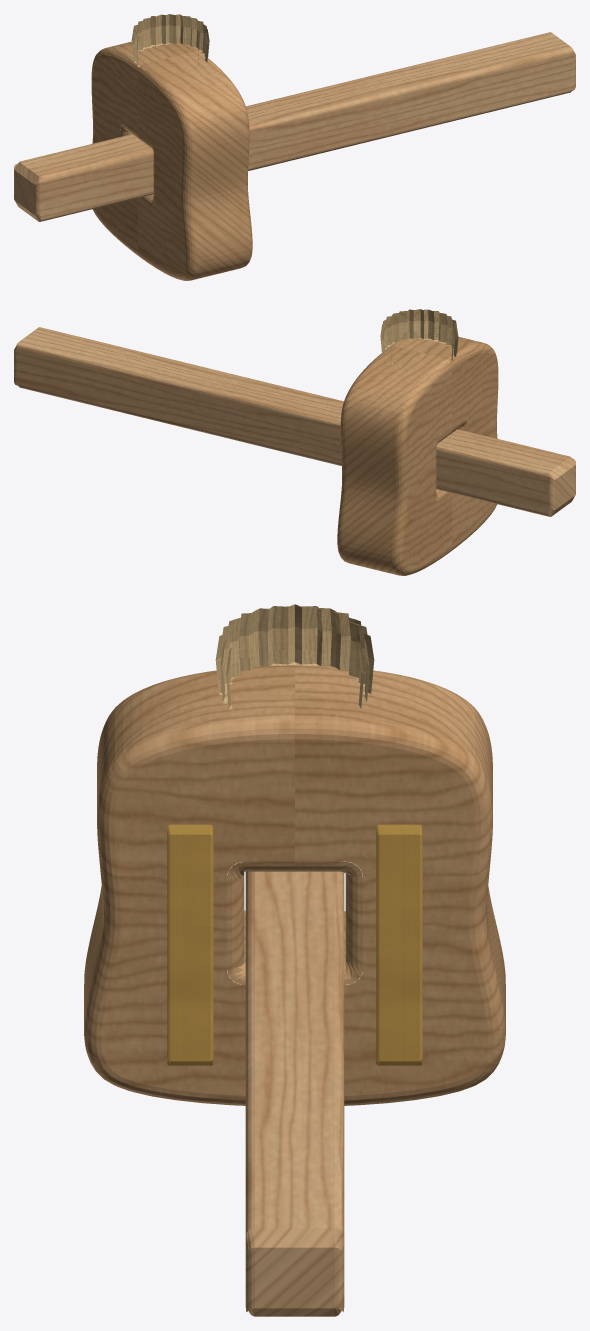
The model's file is gramil.glb.
3 views of the same model, one above another, from view 1: azimuth 30°, elevation 25°; view 2: azimuth 150°, elevation 25°; view 3: azimuth 270°, elevation 25° (orthographic). The views are drawn at different scales.
Visible parts, largest first — view 1: regla, cabezal, tornillo_apriete; view 2: regla, cabezal, tornillo_apriete; view 3: cabezal, regla, pletina_-18, pletina_18, tornillo_apriete.
Part boxes in pixels (x1,y1,x2,y2): regla: (14, 32, 575, 221); cabezal: (91, 42, 252, 280); tornillo_apriete: (131, 14, 209, 74); regla: (14, 327, 575, 516); cabezal: (337, 337, 498, 575); tornillo_apriete: (380, 309, 458, 369); cabezal: (84, 665, 505, 1105); regla: (245, 861, 344, 1316); pletina_-18: (376, 824, 422, 1065); pletina_18: (167, 824, 213, 1065); tornillo_apriete: (215, 604, 374, 725).
Bounding box in the file's own units: 0.215 × 0.0866 × 0.0726.
5 materials, 5 textured.
